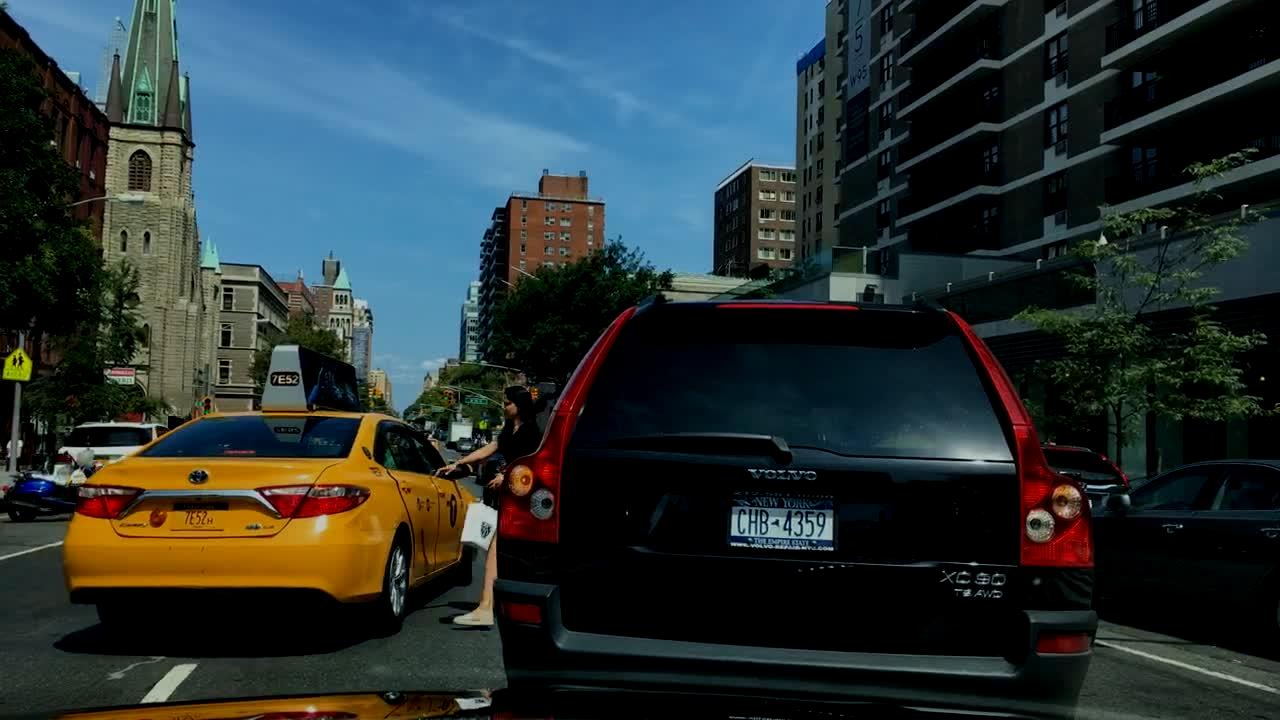Toyota: (188, 463, 215, 488)
volvo: (728, 451, 840, 499)
